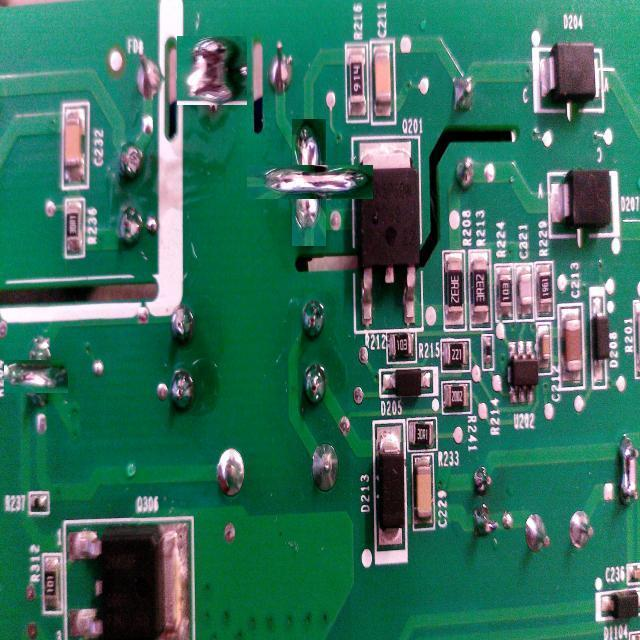Short_circuit: (269, 142, 350, 223), (178, 36, 248, 106), (12, 352, 61, 401)
